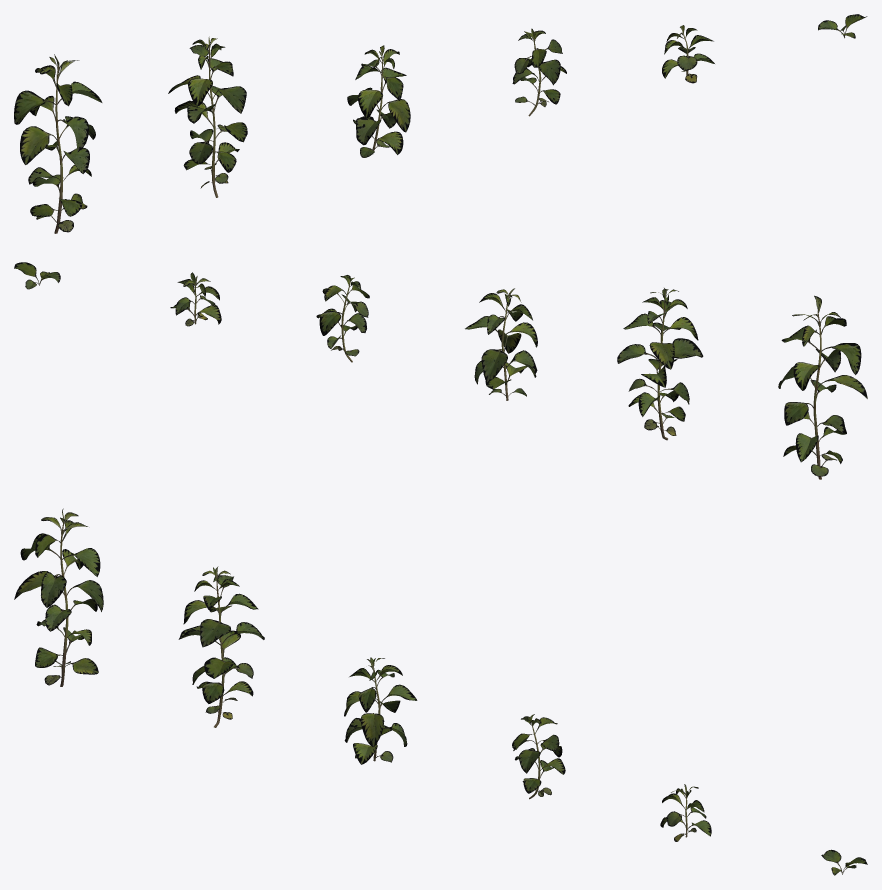
File: nettle.glb
3 views of the same model, one above another, from view 1: azimuth 30°, elevation 25°; view 2: azimuth 150°, elevation 25°; view 3: azimuth 330°, elevation 25° (orthographic).
Visible parts, largest first — view 1: nettle_plant_medium_a_LOD0; view 2: nettle_plant_medium_a_LOD0; view 3: nettle_plant_medium_a_LOD0.
Part boxes in pixels (bbox=[...]): nettle_plant_medium_a_LOD0: bbox=[14, 14, 867, 233]; nettle_plant_medium_a_LOD0: bbox=[14, 262, 867, 479]; nettle_plant_medium_a_LOD0: bbox=[14, 508, 867, 875].
Size of the model in its own units: 1.08 by 0.2182 by 0.0946.
1 material, 1 textured.
